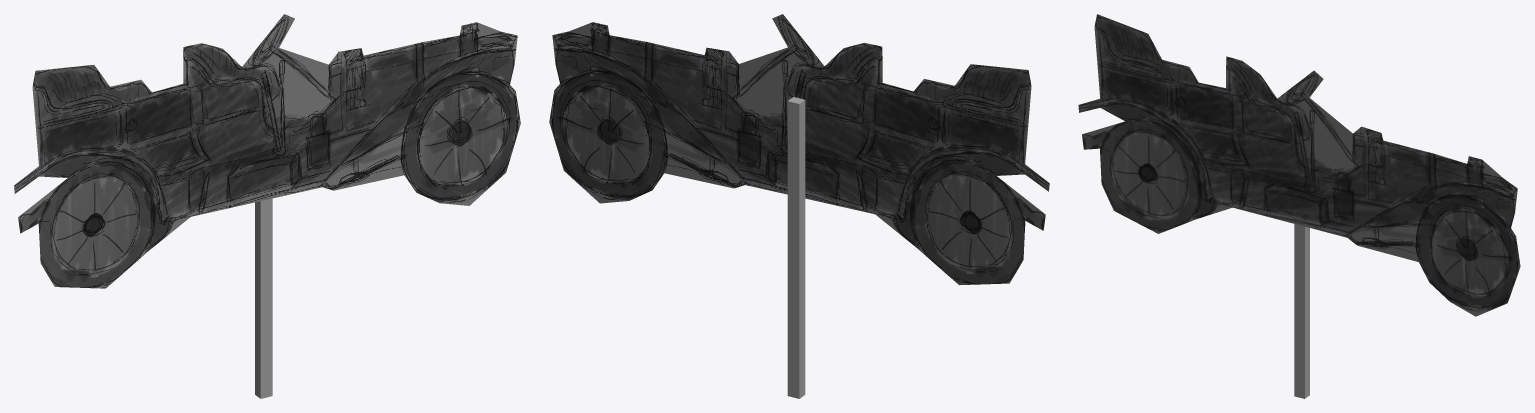
Rendered from Depression_Car1.fbx.
3 views of the same model, side by side, from view 1: azimuth 30°, elevation 25°; view 2: azimuth 150°, elevation 25°; view 3: azimuth 330°, elevation 25° (orthographic). The views are drawn at different scales.
Parts seen in each view (by area): view 1: pCube1, pCube2; view 2: pCube1, pCube2; view 3: pCube1, pCube2.
Part boxes in pixels (x1,y1,x2,y2): pCube1: (14, 14, 520, 288); pCube2: (255, 198, 272, 398); pCube1: (549, 14, 1049, 285); pCube2: (787, 97, 805, 398); pCube1: (1078, 14, 1520, 316); pCube2: (1294, 224, 1309, 398).
Size of the model in its own units: 0.0873 by 0.0631 by 0.00188.
2 materials, 1 textured.
